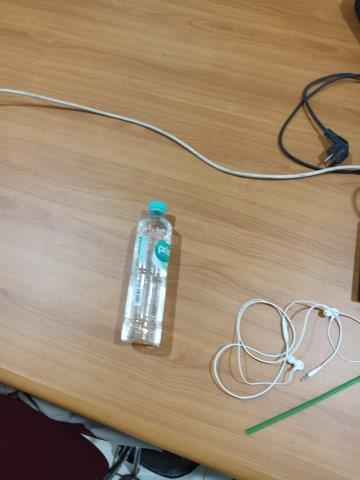botolplastik: (120, 200, 173, 345)
